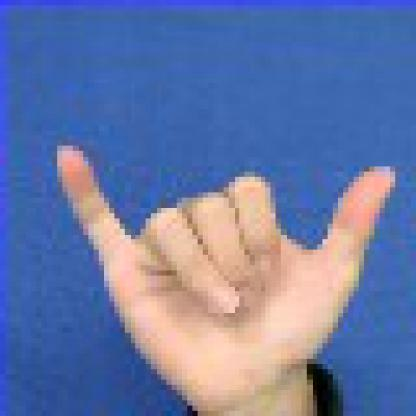six: (36, 114, 411, 411)
